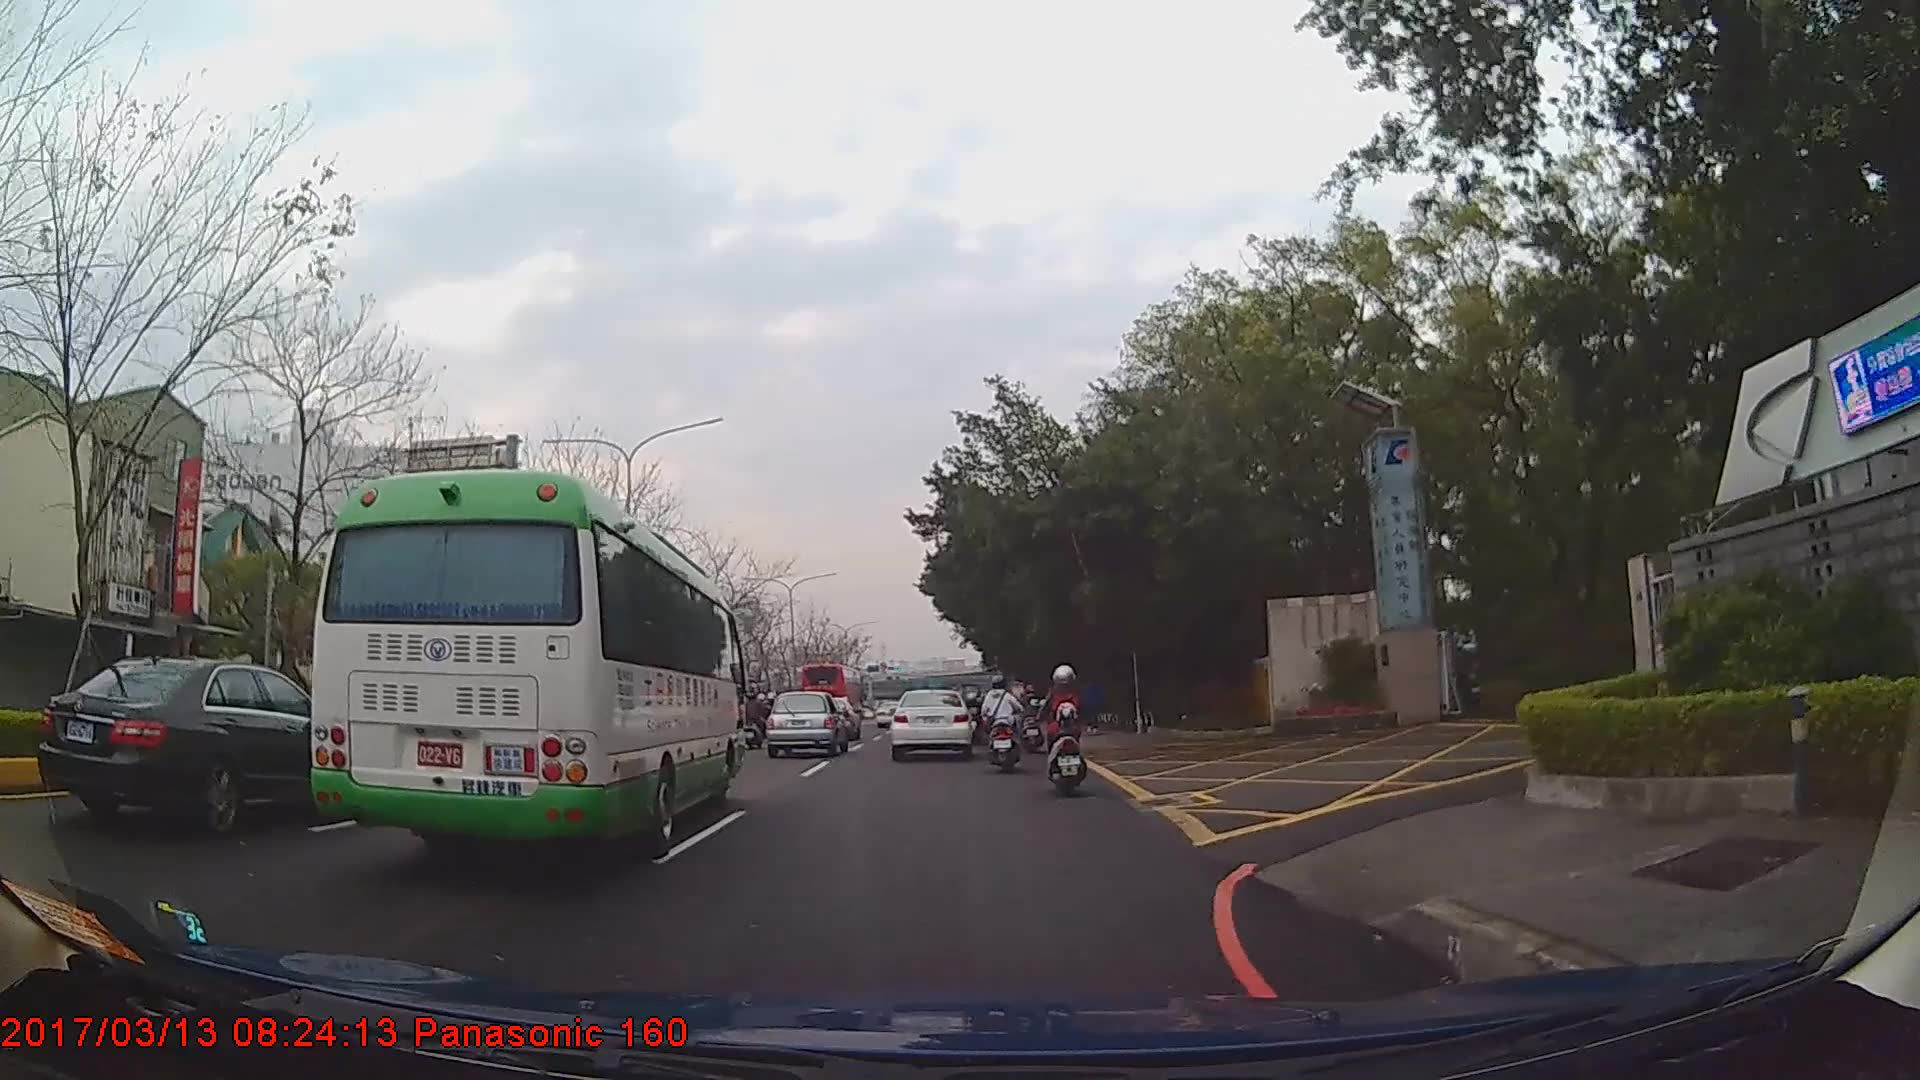pedestrian: (1081, 678, 1104, 736)
rider: (1043, 665, 1088, 801), (979, 676, 1023, 773), (1019, 679, 1045, 751), (743, 690, 771, 742)
vehicle: (300, 462, 744, 856), (36, 653, 378, 833), (888, 685, 973, 759), (763, 688, 850, 756), (797, 659, 863, 724)
